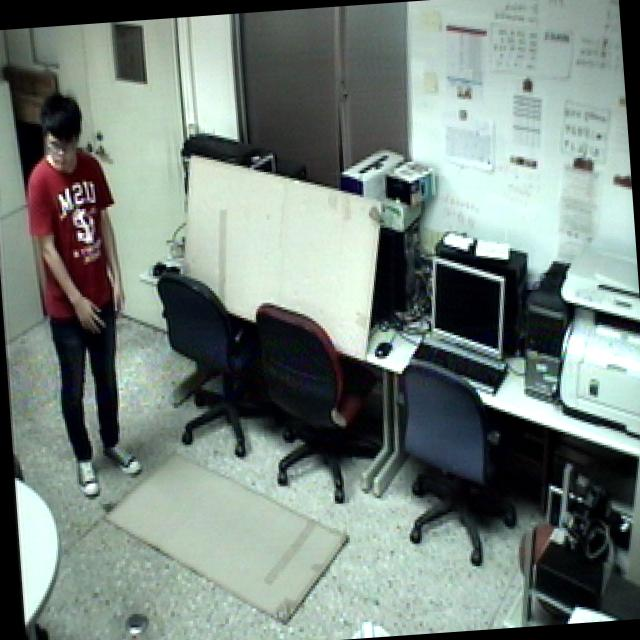stand: (13, 75, 156, 502)
